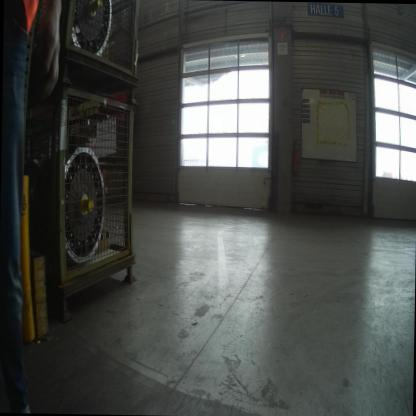stillage: (25, 80, 142, 320), (35, 11, 164, 95)
